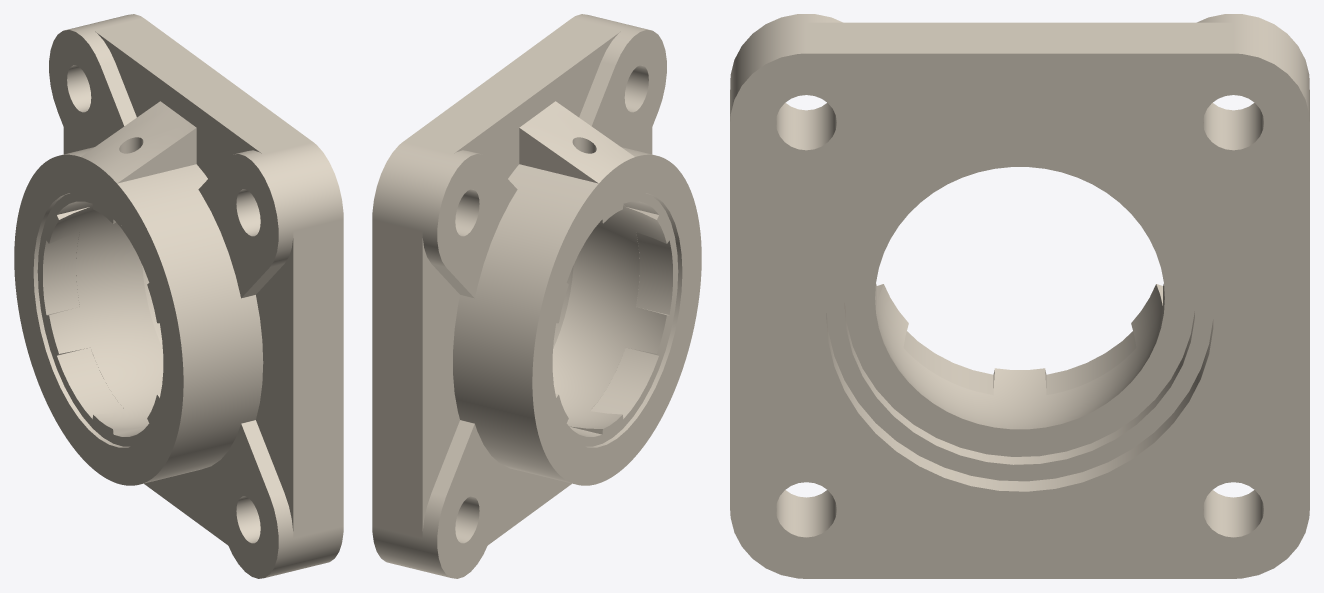
File: cswp.glb
3 renders of one model, left to right at view 1: azimuth 30°, elevation 25°; view 2: azimuth 150°, elevation 25°; view 3: azimuth 270°, elevation 25°, orthographic. The views are drawn at different scales.
Visible parts, largest first — view 1: satin_finish_nickel; view 2: satin_finish_nickel; view 3: satin_finish_nickel.
Boxes of the visible parts, bbox=[...] form: satin_finish_nickel: bbox=[14, 14, 343, 578]; satin_finish_nickel: bbox=[372, 14, 701, 578]; satin_finish_nickel: bbox=[730, 14, 1309, 578].
Size of the model in its own units: 0.031 by 0.095 by 0.095.
